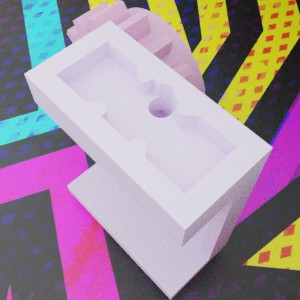lego: (24, 20, 272, 300), (62, 0, 205, 161)
